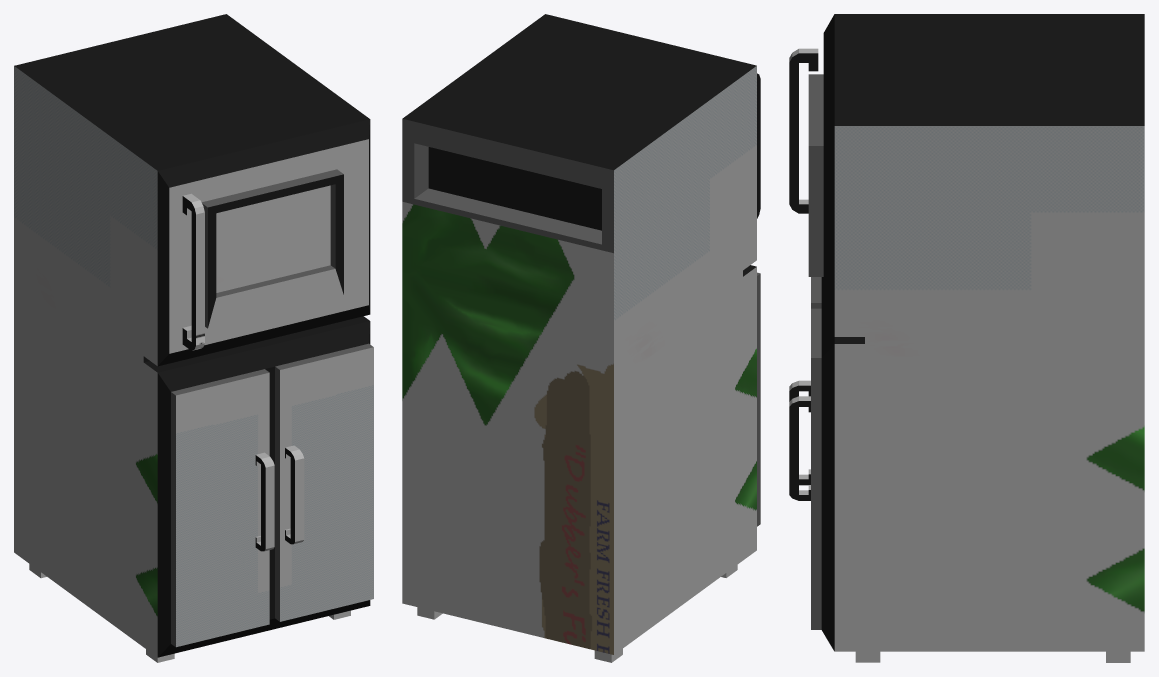
The model's file is fridge 10.fbx.
3 renders of one model, left to right at view 1: azimuth 30°, elevation 25°; view 2: azimuth 150°, elevation 25°; view 3: azimuth 270°, elevation 25°, orthographic. The views are drawn at different scales.
Visible parts, largest first — view 1: Cube; view 2: Cube; view 3: Cube.
Boxes of the visible parts, <box> form: Cube: <box>14,14,373,662</box>; Cube: <box>402,14,760,662</box>; Cube: <box>789,14,1144,662</box>.
Bounding box in the file's own units: 171 × 385 × 229.
